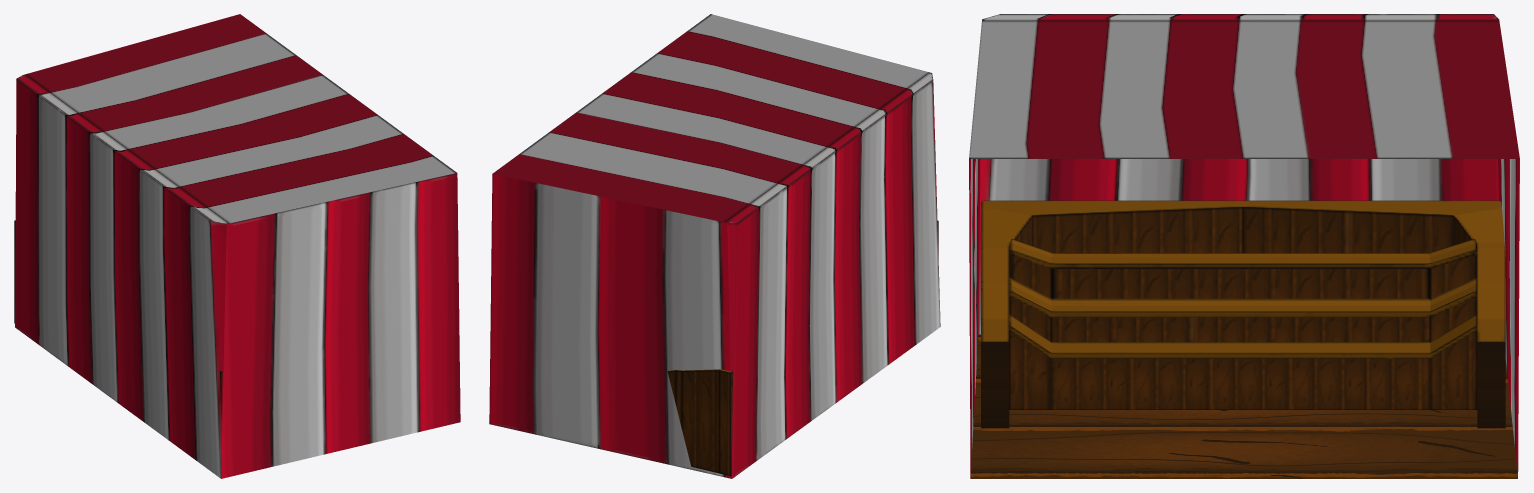
Rendered from Background.fbx.
3 views of the same model, side by side, from view 1: azimuth 30°, elevation 25°; view 2: azimuth 150°, elevation 25°; view 3: azimuth 270°, elevation 25° (orthographic). The views are drawn at different scales.
Visible parts, largest first — view 1: pCube4; view 2: pCube4; view 3: pCube4.
Part boxes in pixels (<box>): pCube4: <box>14,14,460,478</box>; pCube4: <box>489,14,940,478</box>; pCube4: <box>969,14,1519,478</box>.
Bounding box in the file's own units: 212 × 215 × 336.
3 materials, 3 textured.
